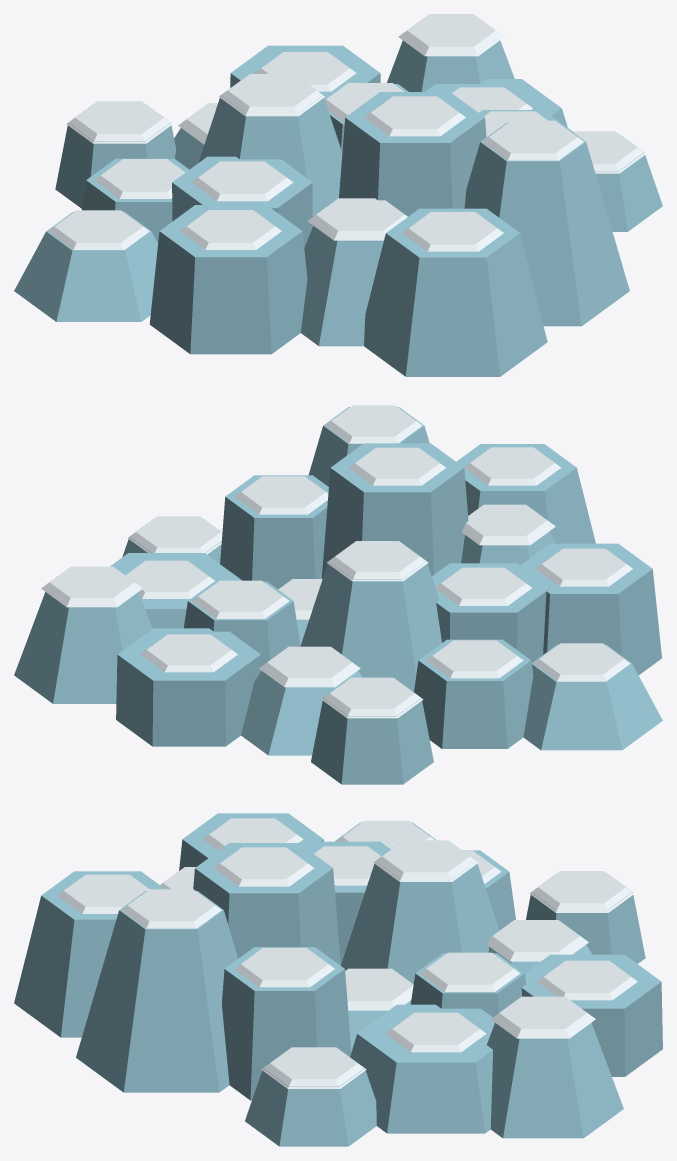
The model's file is FEATURE_GLACIER_v00.fbx.
3 views of the same model, one above another, from view 1: azimuth 30°, elevation 25°; view 2: azimuth 150°, elevation 25°; view 3: azimuth 270°, elevation 25° (orthographic). The views are drawn at different scales.
Visible parts, largest first — view 1: Glacial_serac.015, Glacial_serac.010, Glacial_serac.012, Glacial_serac.002, Glacial_serac.017, Glacial_serac.001, Glacial_serac.007, Glacial_serac.004, Glacial_serac.014, Glacial_serac.016, Snow_cap.046, Snow_cap.031 (+20 smaller); view 2: Glacial_serac.011, Glacial_serac.002, Glacial_serac.001, Glacial_serac.016, Glacial_serac.012, Glacial_serac.017, Glacial_serac.009, Glacial_serac.014, Glacial_serac.005, Glacial_serac.004, Glacial_serac.015, Glacial_serac.006 (+22 smaller); view 3: Glacial_serac.010, Glacial_serac.008, Glacial_serac.016, Glacial_serac.001, Glacial_serac.005, Glacial_serac.015, Glacial_serac.002, Glacial_serac.013, Glacial_serac.011, Glacial_serac.014, Snow_cap.046, Snow_cap.043 (+20 smaller).
Part boxes in pixels (<box>): Glacial_serac.015: <box>364,208,547,376</box>; Glacial_serac.010: <box>464,122,629,326</box>; Glacial_serac.012: <box>149,205,307,354</box>; Glacial_serac.002: <box>339,92,486,216</box>; Glacial_serac.017: <box>14,212,157,321</box>; Glacial_serac.001: <box>198,78,342,226</box>; Glacial_serac.007: <box>300,226,383,346</box>; Glacial_serac.004: <box>172,156,312,247</box>; Glacial_serac.014: <box>55,104,176,208</box>; Glacial_serac.016: <box>387,40,514,91</box>; Snow_cap.046: <box>398,14,504,56</box>; Snow_cap.031: <box>219,74,324,116</box>; Glacial_serac.011: <box>116,628,261,746</box>; Glacial_serac.002: <box>322,443,468,578</box>; Glacial_serac.001: <box>300,562,441,691</box>; Glacial_serac.016: <box>14,592,152,703</box>; Glacial_serac.012: <box>520,543,661,675</box>; Glacial_serac.017: <box>523,645,662,750</box>; Glacial_serac.009: <box>414,639,533,748</box>; Glacial_serac.014: <box>311,681,433,784</box>; Glacial_serac.005: <box>220,475,328,589</box>; Glacial_serac.004: <box>432,563,550,662</box>; Glacial_serac.015: <box>456,444,595,543</box>; Glacial_serac.006: <box>241,670,362,755</box>; Glacial_serac.010: <box>76,891,237,1092</box>; Glacial_serac.008: <box>350,1004,494,1133</box>; Glacial_serac.016: <box>487,1023,623,1138</box>; Glacial_serac.001: <box>341,861,499,983</box>; Glacial_serac.005: <box>221,947,351,1100</box>; Glacial_serac.015: <box>14,871,164,1037</box>; Glacial_serac.002: <box>193,843,340,965</box>; Glacial_serac.013: <box>245,1050,376,1146</box>; Glacial_serac.011: <box>521,954,662,1076</box>; Glacial_serac.014: <box>526,873,645,963</box>; Snow_cap.046: <box>491,996,595,1038</box>; Snow_cap.043: <box>261,1047,366,1088</box>.
Size of the model in its own units: 149 by 40.1 by 148.
